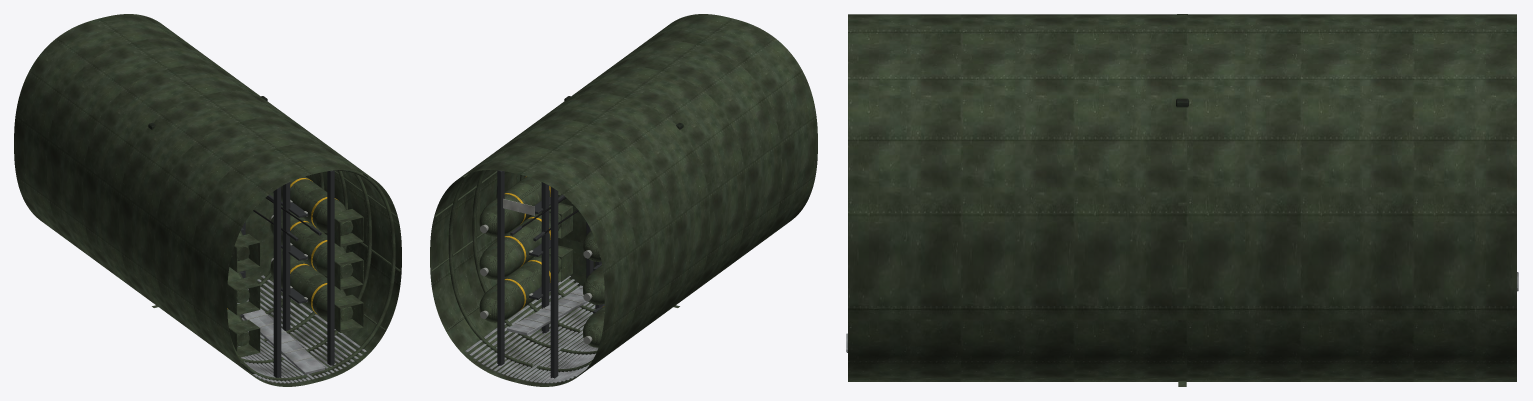
Rendered from b24-bombbay.glb.
3 views of the same model, side by side, from view 1: azimuth 30°, elevation 25°; view 2: azimuth 150°, elevation 25°; view 3: azimuth 270°, elevation 25° (orthographic). The views are drawn at different scales.
Parts seen in each view (by area): view 1: b24_skin_bay, b24_olive, b24_gun, b24_zinc, b24_alu, b24_yellowp; view 2: b24_skin_bay, b24_olive, b24_alu, b24_gun, b24_zinc, b24_metal, b24_yellowp; view 3: b24_skin_bay.
Boxes of the visible parts, x1,y1,x2,y2 form: b24_skin_bay: (14,14,401,386); b24_olive: (227,176,363,357); b24_gun: (238,170,334,377); b24_zinc: (120,91,400,381); b24_alu: (237,275,366,383); b24_yellowp: (227,178,338,314); b24_skin_bay: (430,14,817,386); b24_olive: (479,176,604,347); b24_alu: (465,276,598,383); b24_gun: (497,170,604,378); b24_zinc: (431,91,711,372); b24_metal: (480,224,592,344); b24_yellowp: (504,176,604,309); b24_skin_bay: (848,14,1516,381).
Bounding box in the file's own units: 1.96 × 2.24 × 4.16.
9 materials, 6 textured.
